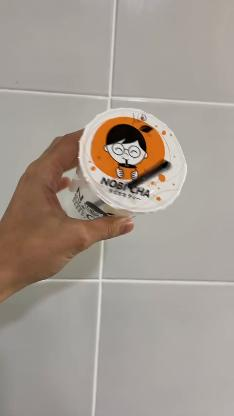Plastic Cup: (67, 108, 189, 220)
